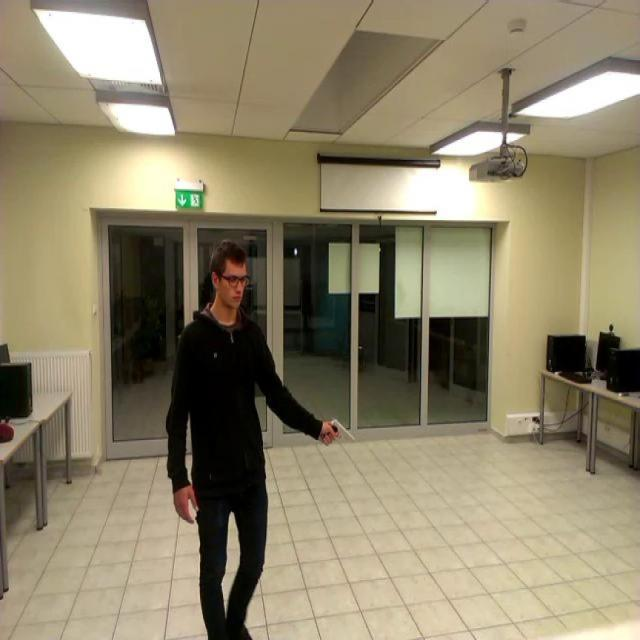pistol: (323, 416, 356, 442)
